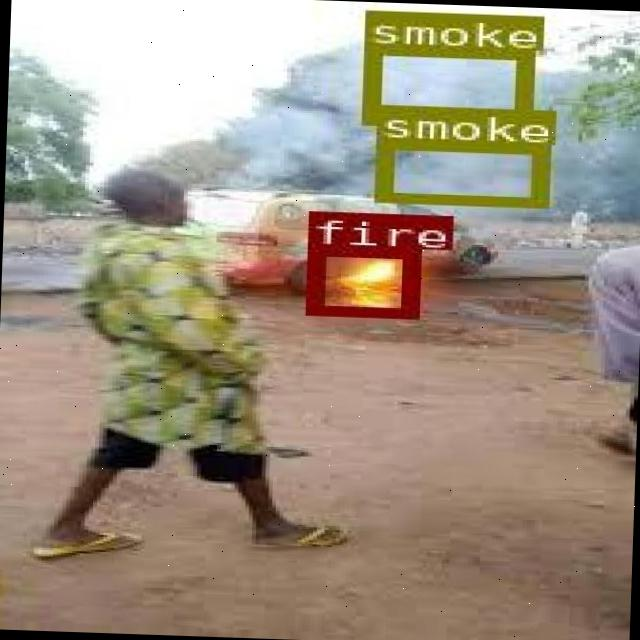fire: (302, 244, 414, 316)
smoke: (358, 43, 530, 128), (371, 139, 546, 206)
